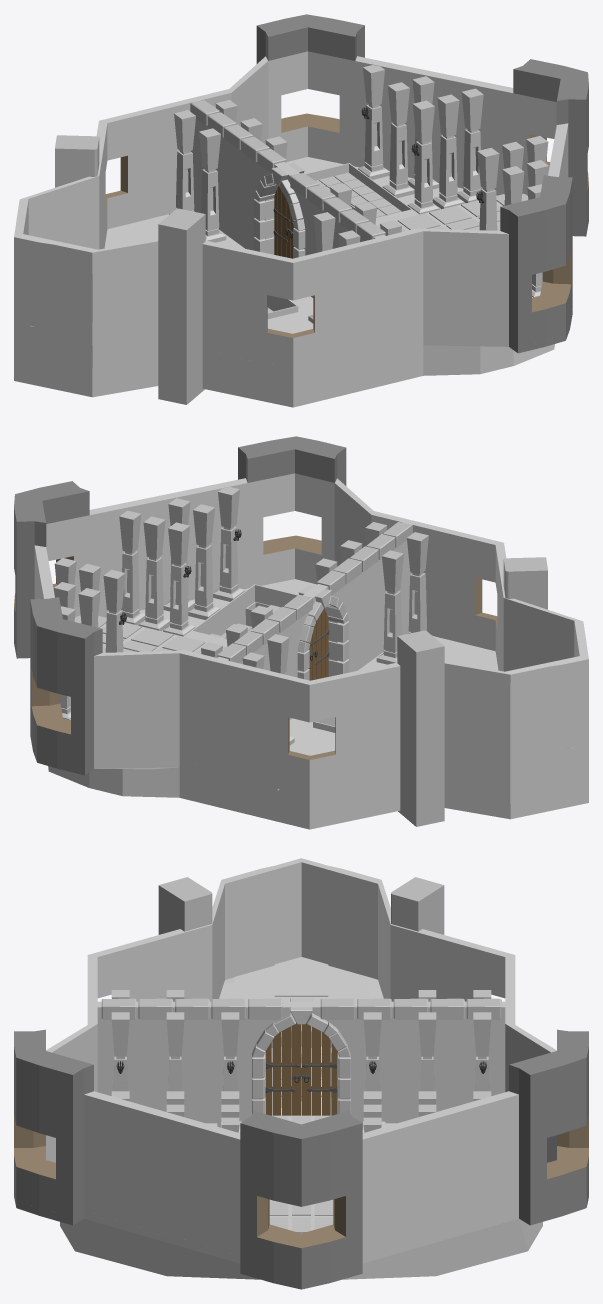
Rendered from secondfloor.fbx.
3 views of the same model, one above another, from view 1: azimuth 30°, elevation 25°; view 2: azimuth 150°, elevation 25°; view 3: azimuth 270°, elevation 25° (orthographic). The views are drawn at different scales.
Parts seen in each view (by area): view 1: SecondFloor, WALL3, WALL1, WALL2, lvl8; view 2: SecondFloor, WALL3, WALL2, WALL1; view 3: SecondFloor, WALL1, WALL2, WALL3.
Boxes of the visible parts, x1,y1,x2,y2 form: SecondFloor: [30, 65, 554, 407]; WALL3: [14, 121, 293, 407]; WALL1: [229, 14, 587, 195]; WALL2: [417, 72, 588, 353]; lvl8: [315, 172, 401, 217]; SecondFloor: [48, 487, 572, 829]; WALL3: [309, 543, 588, 829]; WALL2: [15, 436, 373, 617]; WALL1: [14, 494, 185, 775]; SecondFloor: [60, 955, 542, 1279]; WALL1: [301, 1024, 588, 1289]; WALL2: [14, 1024, 301, 1289]; WALL3: [88, 858, 514, 1001].
Size of the model in its own units: 375 by 109 by 295.
